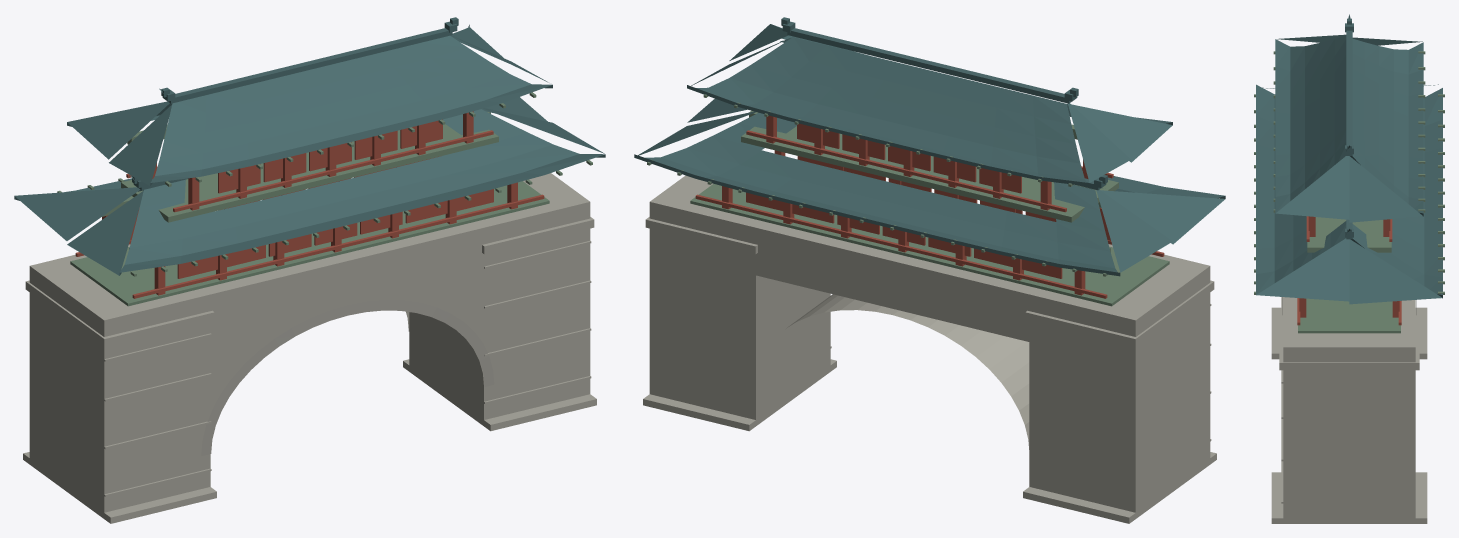
3 views of the same model, side by side, from view 1: azimuth 30°, elevation 25°; view 2: azimuth 150°, elevation 25°; view 3: azimuth 270°, elevation 25° (orthographic). The views are drawn at different scales.
Parts seen in each view (by area): view 1: Visual; view 2: Visual; view 3: Visual.
Boxes of the visible parts, box(x1,y1,x2,y2) form: Visual: box(14, 17, 605, 523); Visual: box(634, 17, 1225, 523); Visual: box(1254, 14, 1444, 523).
Bounding box in the file's own units: 64.5 × 48 × 24.5.
